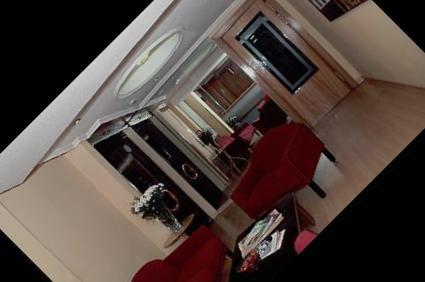Puerta: (221, 0, 356, 130)
